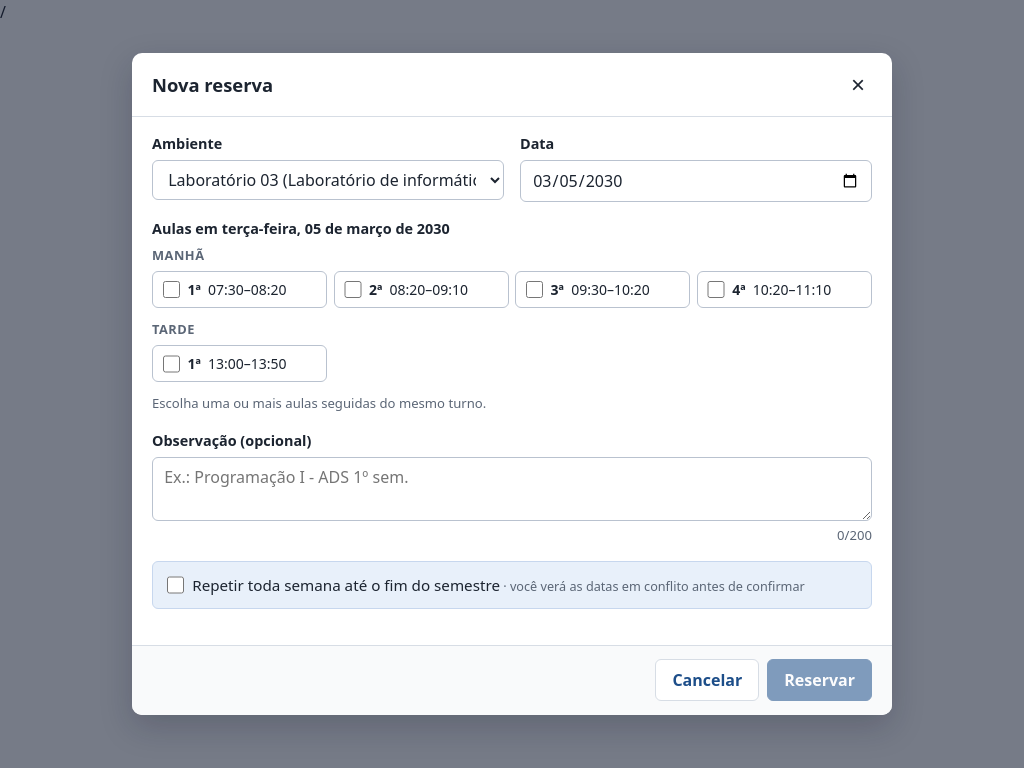
Test: ModalReserva: reserva avulsa › 409 da API mostra os conflitos e recarrega a disponibilidade
Expected: the text "Aulas em" is shown, [152, 219, 450, 238]
Click the checkbox labelled "2ª 08:20–09:10" at (353, 290), box [344, 281, 362, 298]
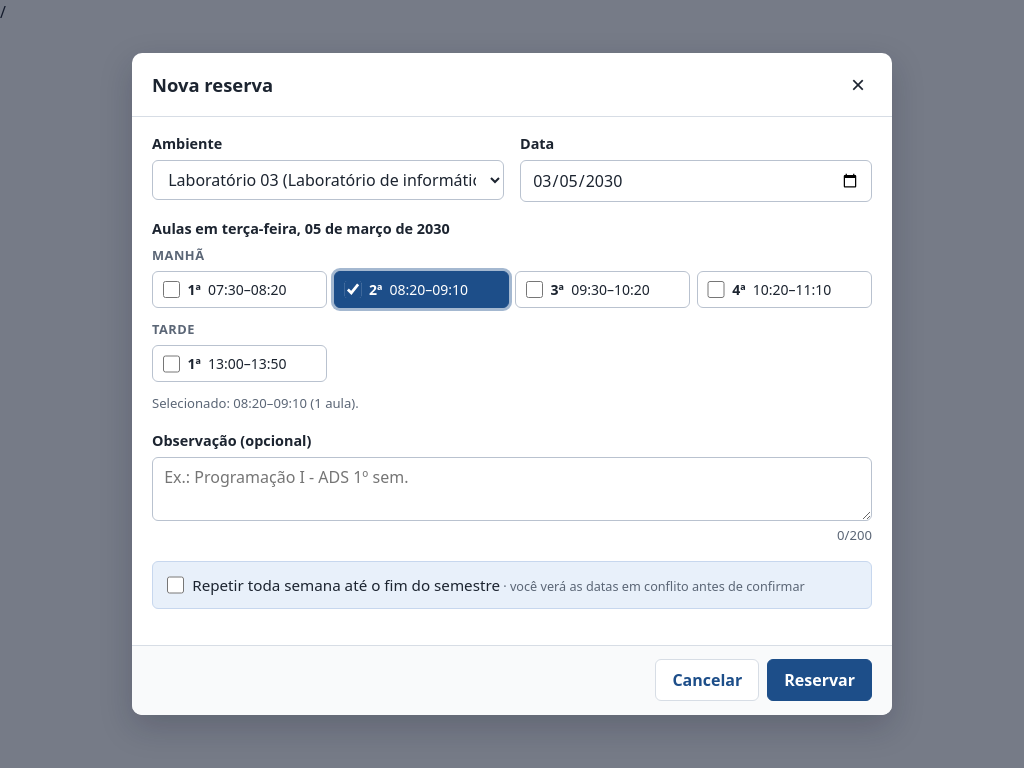
Click the button "Reservar" at (820, 680), box [767, 659, 872, 701]
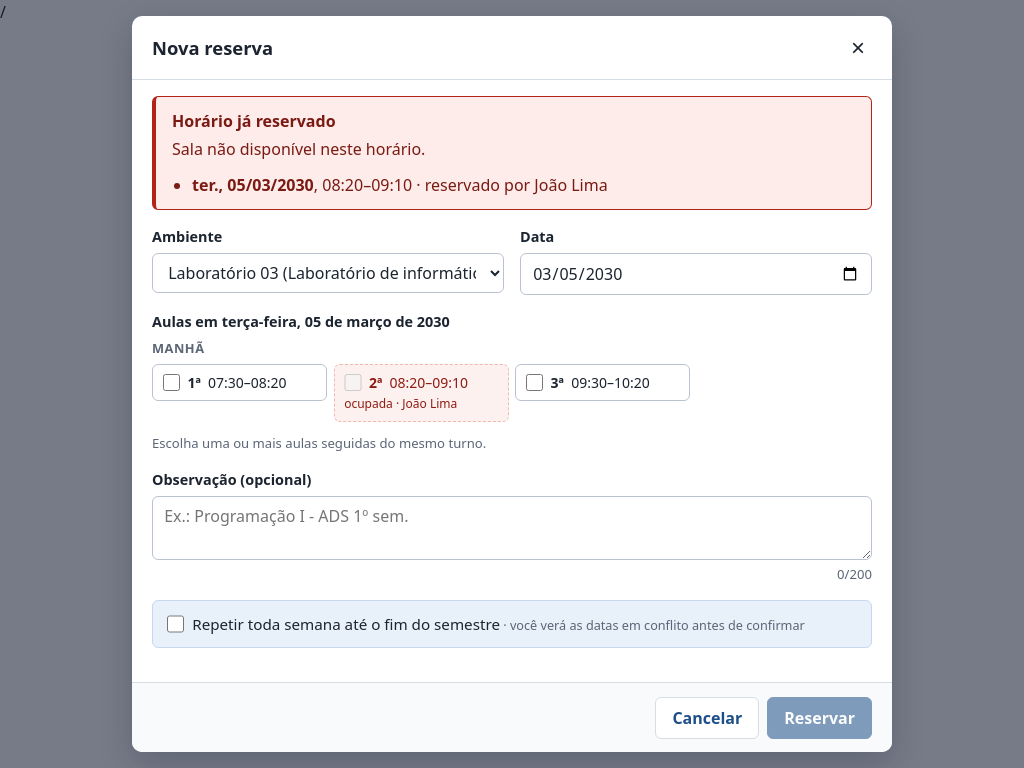
Result: the text "Horário já reservado" is shown at [172, 110, 336, 132]
Result: the text "Sala não disponível neste horário." is shown at [172, 138, 425, 160]
Result: the list item "ter., 05/03/2030, 08:20–09:10 · reservado por João Lima" is shown at [192, 173, 608, 197]
